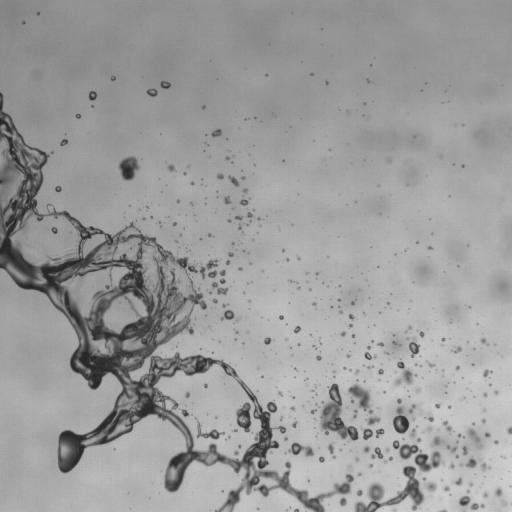droplet: (392, 358, 417, 386), (118, 156, 139, 180), (392, 406, 410, 433), (406, 336, 420, 357), (360, 426, 373, 440), (220, 310, 234, 321), (458, 495, 470, 506), (430, 436, 441, 447), (230, 190, 241, 201), (57, 313, 68, 324), (65, 326, 76, 337), (68, 338, 79, 349), (153, 345, 164, 356), (453, 353, 464, 364), (102, 371, 113, 382), (77, 376, 88, 387), (339, 389, 350, 400), (297, 390, 308, 401), (294, 409, 305, 420), (357, 409, 368, 420), (433, 409, 444, 420), (145, 412, 156, 423), (268, 415, 279, 426), (415, 417, 426, 428), (354, 419, 365, 430), (452, 421, 463, 432), (435, 426, 446, 437), (386, 428, 397, 439), (270, 430, 281, 441), (328, 430, 339, 441), (287, 431, 298, 442), (439, 431, 450, 442), (444, 433, 455, 444), (367, 436, 378, 447), (463, 436, 474, 447), (279, 440, 290, 451), (419, 443, 430, 454), (467, 446, 478, 457), (439, 450, 450, 461), (188, 459, 199, 470), (221, 463, 232, 474), (427, 467, 438, 478), (397, 475, 408, 486), (288, 476, 299, 487), (453, 486, 464, 497), (345, 492, 356, 503), (424, 411, 434, 422), (146, 88, 157, 97), (483, 369, 493, 378), (375, 428, 384, 438), (422, 425, 433, 433), (450, 346, 462, 353), (88, 91, 97, 100), (172, 169, 181, 178), (230, 195, 239, 204), (35, 203, 44, 212), (238, 205, 247, 214), (191, 272, 200, 281), (201, 293, 210, 302), (343, 304, 352, 313), (412, 322, 421, 331), (170, 334, 179, 343), (383, 341, 392, 350), (404, 360, 413, 369), (359, 368, 368, 377), (384, 381, 393, 390), (367, 397, 376, 406), (431, 408, 440, 417), (432, 418, 441, 427), (282, 419, 291, 428), (74, 426, 83, 435), (475, 426, 484, 435), (435, 443, 444, 452), (286, 452, 295, 461), (406, 456, 415, 465), (336, 475, 345, 484), (374, 475, 383, 484), (349, 481, 358, 490), (434, 486, 443, 495), (275, 487, 284, 496), (251, 489, 260, 498), (219, 492, 228, 501), (361, 495, 370, 504), (403, 495, 412, 504), (319, 497, 328, 506), (160, 81, 170, 89), (211, 129, 221, 137), (264, 337, 274, 345), (494, 487, 502, 497), (0, 138, 7, 149), (223, 195, 231, 204), (480, 337, 489, 345), (453, 477, 462, 485), (461, 445, 468, 455), (231, 505, 242, 511), (344, 505, 355, 511), (415, 505, 426, 511), (460, 505, 471, 511), (348, 313, 356, 321), (293, 325, 301, 333), (167, 164, 176, 171), (363, 445, 370, 453), (0, 155, 5, 166), (60, 139, 67, 146), (156, 86, 163, 93), (115, 156, 122, 163), (115, 168, 122, 175), (132, 168, 139, 175), (184, 174, 191, 181), (222, 176, 229, 183), (125, 178, 132, 185), (245, 203, 252, 210), (241, 215, 248, 222), (82, 220, 89, 227), (108, 228, 115, 235), (162, 243, 169, 250), (289, 255, 296, 262), (186, 258, 193, 265), (241, 261, 248, 268), (214, 265, 221, 272), (214, 273, 221, 280), (300, 283, 307, 290), (199, 287, 206, 294), (29, 288, 36, 295), (38, 291, 45, 298), (211, 291, 218, 298), (216, 293, 223, 300), (205, 299, 212, 306), (193, 303, 200, 310), (348, 306, 355, 313), (341, 324, 348, 331), (345, 328, 352, 335), (237, 333, 244, 340), (474, 340, 481, 347), (67, 347, 74, 354), (201, 350, 208, 357), (65, 366, 72, 373), (409, 366, 416, 373), (396, 367, 403, 374), (75, 372, 82, 379), (357, 372, 364, 379), (244, 379, 251, 386), (347, 379, 354, 386), (359, 382, 366, 389), (407, 383, 414, 390), (115, 384, 122, 391), (486, 387, 493, 394), (324, 396, 331, 403), (353, 396, 360, 403), (409, 396, 416, 403), (290, 399, 297, 406), (315, 408, 322, 415), (401, 409, 408, 416), (405, 413, 412, 420), (343, 419, 350, 426), (92, 420, 99, 427), (369, 423, 376, 430), (60, 424, 67, 431), (356, 429, 363, 436), (414, 429, 421, 436), (429, 430, 436, 437), (52, 433, 59, 440), (479, 435, 486, 442), (486, 436, 493, 443), (458, 438, 465, 445), (433, 444, 440, 451), (180, 445, 187, 452), (82, 447, 89, 454), (455, 447, 462, 454), (312, 451, 319, 458), (323, 451, 330, 458), (382, 451, 389, 458), (409, 452, 416, 459), (462, 455, 469, 462), (163, 456, 170, 463), (51, 457, 58, 464), (452, 458, 459, 465), (76, 459, 83, 466), (73, 463, 80, 470), (263, 464, 270, 471), (239, 466, 246, 473), (429, 466, 436, 473), (467, 466, 474, 473), (276, 469, 283, 476), (158, 476, 165, 483), (461, 479, 468, 486), (178, 482, 185, 489), (230, 483, 237, 490), (449, 483, 456, 490), (326, 484, 333, 491), (435, 484, 442, 491), (162, 488, 169, 495), (361, 488, 368, 495), (488, 489, 495, 496), (238, 490, 245, 497), (307, 491, 314, 498), (335, 492, 342, 499), (343, 492, 350, 499), (296, 501, 303, 508), (51, 226, 57, 234), (234, 215, 243, 220), (216, 173, 223, 179), (414, 387, 421, 393), (277, 390, 283, 397), (435, 402, 441, 409), (448, 461, 454, 468), (442, 485, 449, 491), (356, 489, 362, 496), (506, 426, 511, 434), (350, 299, 356, 305), (354, 369, 360, 375), (377, 368, 383, 374), (318, 456, 324, 462), (482, 492, 488, 498), (505, 505, 511, 511), (54, 186, 61, 191), (384, 446, 389, 453), (376, 342, 384, 346), (75, 113, 81, 118), (242, 188, 248, 193), (228, 252, 234, 257), (347, 323, 353, 328), (340, 331, 346, 336), (316, 354, 321, 360), (289, 406, 295, 411), (310, 409, 316, 414), (484, 432, 490, 437), (354, 456, 359, 462), (502, 500, 507, 506), (207, 233, 214, 237), (305, 507, 312, 511), (375, 507, 382, 511), (475, 507, 482, 511), (110, 76, 115, 81), (172, 221, 177, 226), (225, 260, 230, 265), (212, 298, 217, 303), (481, 418, 486, 423), (493, 439, 498, 444), (234, 450, 239, 455), (368, 463, 373, 468), (357, 471, 362, 476), (145, 84, 150, 89), (84, 95, 89, 100), (89, 99, 94, 104), (1, 107, 6, 112), (12, 119, 17, 124), (16, 127, 21, 132), (220, 129, 225, 134), (207, 134, 212, 139), (214, 135, 219, 140), (23, 137, 28, 142), (40, 146, 45, 151), (205, 146, 210, 151), (44, 149, 49, 154), (226, 151, 231, 156), (46, 156, 51, 161), (136, 160, 141, 165), (169, 160, 174, 165), (162, 163, 167, 168), (173, 164, 178, 169), (40, 165, 45, 170), (164, 168, 169, 173), (169, 170, 174, 175), (212, 171, 217, 176), (235, 176, 240, 181), (217, 178, 222, 183), (229, 182, 234, 187), (37, 188, 42, 193), (33, 194, 38, 199), (243, 194, 248, 199), (228, 196, 233, 201), (219, 198, 224, 203), (225, 203, 230, 208), (55, 207, 60, 212), (69, 211, 74, 216), (144, 213, 149, 218), (145, 216, 150, 221), (234, 218, 239, 223), (133, 221, 138, 226), (92, 223, 97, 228), (241, 224, 246, 229), (102, 227, 107, 232), (141, 230, 146, 235), (174, 234, 179, 239), (155, 238, 160, 243), (237, 245, 242, 250), (229, 247, 234, 252), (282, 252, 287, 257), (178, 253, 183, 258), (228, 256, 233, 261), (201, 262, 206, 267), (209, 266, 214, 271), (203, 269, 208, 274), (189, 271, 194, 276), (196, 271, 201, 276), (222, 274, 227, 279), (209, 277, 214, 282), (12, 282, 17, 287), (217, 282, 222, 287), (291, 282, 296, 287), (220, 283, 225, 288), (207, 284, 212, 289), (17, 286, 22, 291), (212, 287, 217, 292), (225, 290, 230, 295), (216, 301, 221, 306), (245, 302, 250, 307), (224, 305, 229, 310), (332, 306, 337, 311), (220, 307, 225, 312), (201, 308, 206, 313), (219, 311, 224, 316), (351, 311, 356, 316), (233, 312, 238, 317), (189, 313, 194, 318), (222, 317, 227, 322), (228, 318, 233, 323), (280, 318, 285, 323), (346, 318, 351, 323), (290, 324, 295, 329), (402, 324, 407, 329), (423, 330, 428, 335), (345, 332, 350, 337), (478, 333, 483, 338), (393, 336, 398, 341), (259, 337, 264, 342), (485, 337, 490, 342), (236, 338, 241, 343), (374, 338, 379, 343), (404, 340, 409, 345), (455, 341, 460, 346), (370, 342, 375, 347), (480, 342, 485, 347), (460, 343, 465, 348), (318, 345, 323, 350), (417, 346, 422, 351), (362, 347, 367, 352), (342, 349, 347, 354), (368, 349, 373, 354), (192, 350, 197, 355), (314, 350, 319, 355), (456, 351, 461, 356), (319, 352, 324, 357), (179, 353, 184, 358), (413, 353, 418, 358), (210, 354, 215, 359), (223, 358, 228, 363), (363, 358, 368, 363), (429, 358, 434, 363), (65, 360, 70, 365), (403, 362, 408, 367), (423, 363, 428, 368), (331, 364, 336, 369), (328, 365, 333, 370), (361, 366, 366, 371), (373, 367, 378, 372), (478, 369, 483, 374), (302, 372, 307, 377), (377, 373, 382, 378), (410, 374, 415, 379), (331, 378, 336, 383), (486, 378, 491, 383), (400, 380, 405, 385), (490, 385, 495, 390), (86, 386, 91, 391), (91, 388, 96, 393), (253, 391, 258, 396), (497, 391, 502, 396), (112, 393, 117, 398), (267, 396, 272, 401), (310, 398, 315, 403), (275, 402, 280, 407), (394, 402, 399, 407), (319, 403, 324, 408), (310, 404, 315, 409), (262, 406, 267, 411), (358, 406, 363, 411), (412, 408, 417, 413), (393, 411, 398, 416), (481, 413, 486, 418), (164, 418, 169, 423), (289, 418, 294, 423), (388, 418, 393, 423), (426, 420, 431, 425), (280, 421, 285, 426), (132, 422, 137, 427), (506, 422, 511, 427), (364, 423, 369, 428), (407, 424, 412, 429), (440, 424, 445, 429), (472, 425, 477, 430), (485, 427, 490, 432), (283, 431, 288, 436), (371, 431, 376, 436), (452, 432, 457, 437), (121, 433, 126, 438), (114, 437, 119, 442), (298, 440, 303, 445), (398, 440, 403, 445), (102, 442, 107, 447), (416, 442, 421, 447), (449, 442, 454, 447), (286, 443, 291, 448), (388, 444, 393, 449), (311, 446, 316, 451), (332, 448, 337, 453), (369, 448, 374, 453), (379, 448, 384, 453), (394, 448, 399, 453), (299, 449, 304, 454), (450, 452, 455, 457), (306, 454, 311, 459), (472, 454, 477, 459), (215, 460, 220, 465), (485, 460, 490, 465), (475, 462, 480, 467), (413, 463, 418, 468), (282, 466, 287, 471), (398, 468, 403, 473), (484, 469, 489, 474), (351, 472, 356, 477), (453, 475, 458, 480), (441, 481, 446, 486), (469, 486, 474, 491), (501, 488, 506, 493), (268, 489, 273, 494), (443, 490, 448, 495), (461, 491, 466, 496), (498, 494, 503, 499), (476, 499, 481, 504), (466, 502, 471, 507), (392, 503, 397, 508), (215, 504, 220, 509), (439, 504, 444, 509), (185, 392, 189, 398), (231, 428, 237, 432), (0, 267, 3, 274), (225, 156, 230, 160), (240, 176, 245, 180), (189, 201, 193, 206), (144, 205, 149, 209), (296, 255, 300, 260), (278, 315, 283, 319), (346, 354, 351, 358), (455, 365, 459, 370), (493, 390, 498, 394), (483, 392, 487, 397), (290, 395, 295, 399), (460, 396, 465, 400), (397, 398, 401, 403), (469, 482, 473, 487), (412, 415, 415, 421), (284, 435, 287, 441), (500, 455, 506, 458), (190, 181, 194, 185), (296, 286, 300, 290), (338, 310, 342, 314), (351, 334, 355, 338), (441, 337, 445, 341), (294, 367, 298, 371), (342, 366, 346, 370), (304, 377, 308, 381), (447, 405, 451, 409), (455, 454, 459, 458), (466, 489, 470, 493), (325, 80, 328, 85), (427, 246, 432, 249), (204, 383, 207, 388), (280, 416, 283, 421), (508, 433, 511, 438), (288, 508, 293, 511), (414, 508, 419, 511), (446, 508, 451, 511), (471, 508, 476, 511), (366, 78, 369, 82), (202, 105, 205, 109), (183, 171, 186, 175), (176, 199, 179, 203), (142, 217, 146, 220), (257, 217, 261, 220), (227, 219, 231, 222), (231, 242, 234, 246), (282, 248, 285, 252), (285, 258, 289, 261), (238, 267, 242, 270), (315, 272, 319, 275), (337, 298, 341, 301), (312, 302, 316, 305), (309, 333, 312, 337), (285, 337, 288, 341), (297, 342, 300, 346), (382, 390, 386, 393), (482, 408, 486, 411), (238, 444, 241, 448), (36, 12, 39, 15), (22, 21, 25, 24), (265, 73, 268, 76), (363, 102, 366, 105), (328, 148, 331, 151), (461, 164, 464, 167), (252, 208, 255, 211), (150, 216, 153, 219), (258, 224, 261, 227), (179, 233, 182, 236), (251, 238, 254, 241), (242, 249, 245, 252), (249, 262, 252, 265), (338, 284, 341, 287), (308, 288, 311, 291), (242, 291, 245, 294), (248, 299, 251, 302), (386, 302, 389, 305), (330, 305, 333, 308), (337, 305, 340, 308), (468, 305, 471, 308), (208, 325, 211, 328), (246, 330, 249, 333), (466, 340, 469, 343), (241, 342, 244, 345), (472, 347, 475, 350), (471, 363, 474, 366), (348, 368, 351, 371), (488, 383, 491, 386), (472, 422, 475, 425), (339, 448, 342, 451), (440, 478, 443, 481), (256, 507, 259, 510), (36, 8, 39, 11), (39, 11, 42, 14), (33, 12, 36, 15), (19, 19, 22, 22), (24, 19, 27, 22), (22, 23, 25, 26), (368, 60, 371, 63), (265, 70, 268, 73), (307, 70, 310, 73), (312, 70, 315, 73), (112, 72, 115, 75), (266, 75, 269, 78), (309, 75, 312, 78), (107, 76, 110, 79), (115, 76, 118, 79), (368, 77, 371, 80), (164, 78, 167, 81), (108, 79, 111, 82), (113, 79, 116, 82), (327, 79, 330, 82), (364, 80, 367, 83), (322, 81, 325, 84), (327, 82, 330, 85), (166, 87, 169, 90), (91, 88, 94, 91), (95, 91, 98, 94), (85, 93, 88, 96), (147, 94, 150, 97), (153, 95, 156, 98), (94, 97, 97, 100), (362, 98, 365, 101), (365, 102, 368, 105), (199, 103, 202, 106), (204, 106, 207, 109), (90, 107, 93, 110), (77, 110, 80, 113), (80, 114, 83, 117), (244, 114, 247, 117), (250, 116, 253, 119), (74, 117, 77, 120), (215, 126, 218, 129), (201, 133, 204, 136), (63, 136, 66, 139), (58, 138, 61, 141), (67, 140, 70, 143), (64, 143, 67, 146), (203, 143, 206, 146), (30, 144, 33, 147), (202, 151, 205, 154), (222, 155, 225, 158), (281, 156, 284, 159), (228, 158, 231, 161), (281, 161, 284, 164), (255, 163, 258, 166), (458, 163, 461, 166), (464, 164, 467, 167), (461, 167, 464, 170), (183, 168, 186, 171), (241, 172, 244, 175), (180, 173, 183, 176), (187, 180, 190, 183), (193, 180, 196, 183), (199, 180, 202, 183), (189, 184, 192, 187), (201, 184, 204, 187), (52, 185, 55, 188), (60, 185, 63, 188), (60, 188, 63, 191), (212, 189, 215, 192), (56, 191, 59, 194), (215, 192, 218, 195), (224, 193, 227, 196), (173, 199, 176, 202), (204, 199, 207, 202), (48, 200, 51, 203), (178, 201, 181, 204), (192, 201, 195, 204), (146, 202, 149, 205), (188, 204, 191, 207), (127, 206, 130, 209), (143, 206, 146, 209), (147, 208, 150, 211), (250, 210, 253, 213), (150, 212, 153, 215), (234, 212, 237, 215), (139, 215, 142, 218), (152, 215, 155, 218), (192, 215, 195, 218), (259, 215, 262, 218), (132, 219, 135, 222), (171, 219, 174, 222), (175, 219, 178, 222), (258, 219, 261, 222), (160, 221, 163, 224), (225, 221, 228, 224), (126, 222, 129, 225), (169, 222, 172, 225), (156, 223, 159, 226), (175, 223, 178, 226), (184, 226, 187, 229), (238, 229, 241, 232), (204, 231, 207, 234), (210, 232, 213, 235), (148, 234, 151, 237), (199, 234, 202, 237), (209, 235, 212, 238), (231, 238, 234, 241), (199, 239, 202, 242), (418, 239, 421, 242), (412, 240, 415, 243), (228, 241, 231, 244), (234, 241, 237, 244), (183, 243, 186, 246), (415, 243, 418, 246), (425, 243, 428, 246), (430, 244, 433, 247), (187, 245, 190, 248), (403, 246, 406, 249), (369, 247, 372, 250), (278, 248, 281, 251), (284, 248, 287, 251), (400, 248, 403, 251), (406, 248, 409, 251), (428, 248, 431, 251), (243, 251, 246, 254), (402, 251, 405, 254), (396, 252, 399, 255), (294, 255, 297, 258), (299, 255, 302, 258), (393, 255, 396, 258), (216, 256, 219, 259), (211, 257, 214, 260), (288, 257, 291, 260), (250, 259, 253, 262), (283, 259, 286, 262), (297, 259, 300, 262), (376, 262, 379, 265), (238, 264, 241, 267), (373, 264, 376, 267), (376, 267, 379, 270), (305, 268, 308, 271), (315, 268, 318, 271), (237, 269, 240, 272), (224, 270, 227, 273), (306, 273, 309, 276), (313, 274, 316, 277), (316, 274, 319, 277), (288, 276, 291, 279), (291, 277, 294, 280), (247, 279, 250, 282), (318, 280, 321, 283), (287, 281, 290, 284), (323, 282, 326, 285), (296, 283, 299, 286), (308, 284, 311, 287), (194, 286, 197, 289), (336, 286, 339, 289), (339, 286, 342, 289), (299, 287, 302, 290), (311, 287, 314, 290), (244, 289, 247, 292), (295, 289, 298, 292), (388, 289, 391, 292), (239, 290, 242, 293), (308, 290, 311, 293), (337, 295, 340, 298), (351, 297, 354, 300), (386, 298, 389, 301), (314, 299, 317, 302), (348, 299, 351, 302), (309, 300, 312, 303), (353, 300, 356, 303), (223, 301, 226, 304), (337, 301, 340, 304), (49, 302, 52, 305), (466, 302, 469, 305), (287, 303, 290, 306), (315, 303, 318, 306), (384, 303, 387, 306), (470, 304, 473, 307), (311, 305, 314, 308), (465, 306, 468, 309), (330, 307, 333, 310), (338, 307, 341, 310), (378, 308, 381, 311), (364, 310, 367, 313), (279, 312, 282, 315), (276, 313, 279, 316), (375, 323, 378, 326), (299, 324, 302, 327), (191, 326, 194, 329), (349, 326, 352, 329), (235, 327, 238, 330), (290, 329, 293, 332), (339, 329, 342, 332), (407, 329, 410, 332), (297, 330, 300, 333), (308, 330, 311, 333), (311, 333, 314, 336), (389, 333, 392, 336), (234, 334, 237, 337), (267, 334, 270, 337), (354, 334, 357, 337), (417, 334, 420, 337), (423, 334, 426, 337), (440, 334, 443, 337), (307, 335, 310, 338), (339, 335, 342, 338), (371, 336, 374, 339), (351, 337, 354, 340), (438, 337, 441, 340), (319, 338, 322, 341), (408, 339, 411, 342), (232, 340, 235, 343), (269, 340, 272, 343), (382, 340, 385, 343), (442, 340, 445, 343), (244, 341, 247, 344), (294, 341, 297, 344), (299, 341, 302, 344), (316, 342, 319, 345), (368, 342, 371, 345), (239, 343, 242, 346), (352, 343, 355, 346), (391, 343, 394, 346), (299, 344, 302, 347), (377, 344, 380, 347), (395, 344, 398, 347), (296, 345, 299, 348), (311, 346, 314, 349), (316, 347, 319, 350), (452, 347, 455, 350), (288, 348, 291, 351), (347, 351, 350, 354), (450, 351, 453, 354), (361, 353, 364, 356), (383, 353, 386, 356), (344, 356, 347, 359), (348, 356, 351, 359), (320, 357, 323, 360), (396, 358, 399, 361), (315, 359, 318, 362), (471, 360, 474, 363), (417, 361, 420, 364), (456, 362, 459, 365), (295, 365, 298, 368), (378, 365, 381, 368), (452, 365, 455, 368), (471, 365, 474, 368), (290, 366, 293, 369), (427, 366, 430, 369), (431, 366, 434, 369), (458, 367, 461, 370), (487, 367, 490, 370), (340, 368, 343, 371), (345, 368, 348, 371), (351, 368, 354, 371), (292, 369, 295, 372), (235, 370, 238, 373), (383, 370, 386, 373), (492, 370, 495, 373), (440, 371, 443, 374), (259, 372, 262, 375), (333, 372, 336, 375), (487, 372, 490, 375), (263, 374, 266, 377), (257, 375, 260, 378), (295, 375, 298, 378), (302, 376, 305, 379), (460, 378, 463, 381), (305, 379, 308, 382), (455, 380, 458, 383), (315, 381, 318, 384), (443, 381, 446, 384), (447, 383, 450, 386), (452, 383, 455, 386), (311, 386, 314, 389), (383, 387, 386, 390), (496, 387, 499, 390), (314, 388, 317, 391), (444, 388, 447, 391), (379, 390, 382, 393), (281, 391, 284, 394), (311, 391, 314, 394), (406, 391, 409, 394), (441, 391, 444, 394), (291, 392, 294, 395), (384, 392, 387, 395), (480, 393, 483, 396), (397, 395, 400, 398), (294, 396, 297, 399), (289, 397, 292, 400), (462, 399, 465, 402), (435, 400, 438, 403), (447, 402, 450, 405), (289, 403, 292, 406), (439, 404, 442, 407), (450, 405, 453, 408), (433, 406, 436, 409), (294, 407, 297, 410), (288, 408, 291, 411), (447, 408, 450, 411), (307, 409, 310, 412), (351, 411, 354, 414), (355, 412, 358, 415), (310, 413, 313, 416), (158, 417, 161, 420), (295, 417, 298, 420), (442, 417, 445, 420), (485, 418, 488, 421), (295, 423, 298, 426), (451, 426, 454, 429), (504, 429, 507, 432), (460, 432, 463, 435), (455, 436, 458, 439), (495, 437, 498, 440), (493, 443, 496, 446), (289, 451, 292, 454), (501, 452, 504, 455), (334, 457, 337, 460), (499, 457, 502, 460), (379, 458, 382, 461), (316, 459, 319, 462), (390, 459, 393, 462), (322, 460, 325, 463), (370, 466, 373, 469), (449, 467, 452, 470), (309, 479, 312, 482), (472, 481, 475, 484), (507, 501, 510, 504), (258, 505, 261, 508), (285, 505, 288, 508), (174, 240, 178, 242), (310, 73, 313, 75), (282, 159, 284, 162), (231, 160, 233, 163), (253, 163, 255, 166), (186, 165, 189, 167), (138, 208, 141, 210), (291, 223, 293, 226), (69, 231, 72, 233), (431, 232, 433, 235), (416, 241, 419, 243), (326, 256, 329, 258), (305, 272, 308, 274), (358, 288, 360, 291), (363, 312, 365, 315), (234, 338, 237, 340), (218, 340, 220, 343), (371, 340, 374, 342), (211, 351, 214, 353), (257, 367, 259, 370), (394, 371, 397, 373), (261, 375, 263, 378), (378, 379, 381, 381), (445, 391, 447, 394), (215, 416, 217, 419), (402, 437, 404, 440), (349, 449, 351, 452), (307, 479, 309, 482), (509, 481, 511, 484), (211, 509, 214, 511), (255, 509, 258, 511), (370, 64, 372, 66), (420, 89, 422, 91), (91, 105, 93, 107), (346, 110, 348, 112), (452, 163, 454, 165), (377, 184, 379, 186), (216, 190, 218, 192), (448, 195, 450, 197), (216, 196, 218, 198), (204, 202, 206, 204), (232, 207, 234, 209), (404, 249, 406, 251), (247, 252, 249, 254), (394, 253, 396, 255), (457, 265, 459, 267), (306, 280, 308, 282), (412, 281, 414, 283), (247, 282, 249, 284), (326, 285, 328, 287), (476, 323, 478, 325), (373, 324, 375, 326), (393, 334, 395, 336), (441, 344, 443, 346), (200, 348, 202, 350), (291, 354, 293, 356), (419, 355, 421, 357), (442, 369, 444, 371), (421, 376, 423, 378), (363, 380, 365, 382), (453, 381, 455, 383), (408, 395, 410, 397), (473, 395, 475, 397), (312, 396, 314, 398), (302, 405, 304, 407), (113, 448, 115, 450), (378, 470, 380, 472), (509, 485, 511, 487), (221, 490, 223, 492), (449, 493, 451, 495), (425, 82, 426, 84), (254, 117, 256, 118), (205, 134, 207, 135), (203, 150, 205, 151), (201, 178, 202, 180), (199, 238, 201, 239), (467, 244, 468, 246), (377, 266, 379, 267), (322, 282, 324, 283), (378, 312, 380, 313), (286, 323, 287, 325), (354, 342, 355, 344), (294, 376, 295, 378), (194, 214, 195, 215), (185, 247, 186, 248), (262, 270, 263, 271), (484, 476, 485, 477)
ligament: (315, 383, 358, 442), (347, 379, 380, 426), (194, 417, 225, 439), (459, 455, 491, 472), (284, 442, 314, 456), (466, 427, 483, 449), (238, 212, 254, 234), (211, 282, 228, 295), (441, 419, 455, 434), (327, 442, 336, 459), (312, 336, 322, 349), (228, 175, 239, 186), (470, 502, 484, 510), (240, 197, 251, 205), (350, 409, 357, 421), (425, 360, 435, 367), (362, 364, 374, 369), (404, 325, 411, 333), (416, 330, 424, 337), (392, 340, 401, 346), (292, 418, 297, 428), (288, 279, 298, 283), (414, 362, 422, 367), (457, 433, 465, 438), (332, 370, 336, 378), (206, 289, 212, 294), (235, 316, 241, 321), (225, 435, 231, 440), (285, 506, 291, 511), (158, 220, 162, 227), (222, 303, 229, 307), (444, 382, 449, 387), (234, 328, 238, 334), (437, 509, 447, 511), (293, 508, 299, 511), (205, 142, 209, 146), (384, 351, 389, 354), (313, 418, 317, 421), (244, 118, 249, 120), (187, 249, 190, 252), (229, 422, 231, 426), (128, 205, 131, 206), (255, 390, 258, 391), (462, 510, 465, 511)
